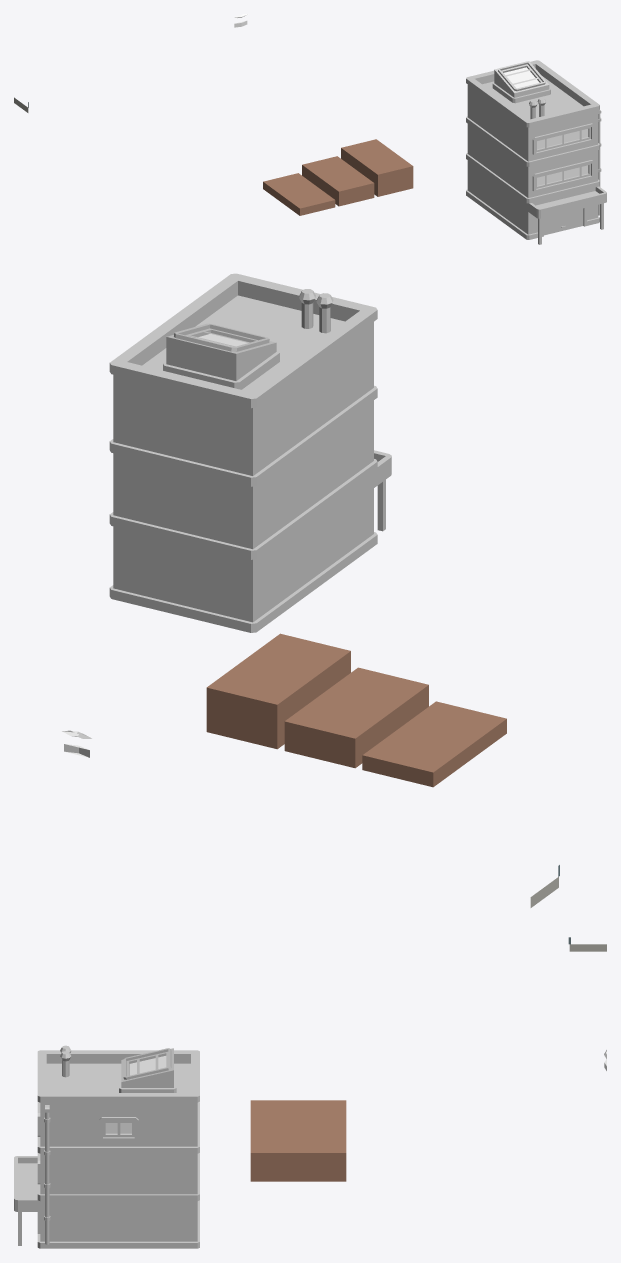
The model's file is urban-2-2.glb.
3 renders of one model, top to bottom at view 1: azimuth 30°, elevation 25°; view 2: azimuth 150°, elevation 25°; view 3: azimuth 270°, elevation 25°, orthographic. The views are drawn at different scales.
Visible parts, largest first — view 1: urban-2-2; view 2: urban-2-2; view 3: urban-2-2.
Boxes of the visible parts, <box> form: urban-2-2: <box>14,14,606,244</box>; urban-2-2: <box>61,273,559,907</box>; urban-2-2: <box>14,937,606,1248</box>.
Size of the model in its own units: 105 by 34.87 by 112.
